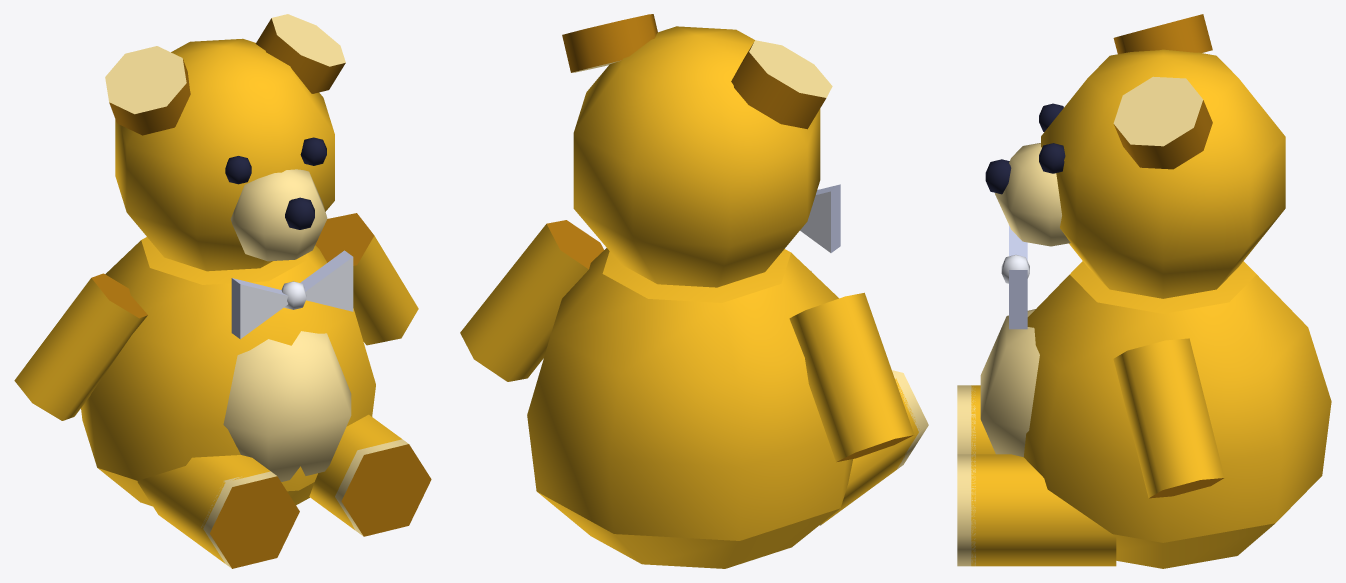
Rendered from Teddy.fbx.
3 views of the same model, side by side, from view 1: azimuth 30°, elevation 25°; view 2: azimuth 150°, elevation 25°; view 3: azimuth 270°, elevation 25° (orthographic). The views are drawn at different scales.
Visible parts, largest first — view 1: Teddy; view 2: Teddy; view 3: Teddy.
Part boxes in pixels (left/top/right/bottom): Teddy: left=14, top=14, right=431, bottom=568; Teddy: left=460, top=14, right=928, bottom=568; Teddy: left=957, top=14, right=1331, bottom=568.
Bounding box in the file's own units: 2.06 × 2.27 × 1.6.
1 material, 1 textured.
